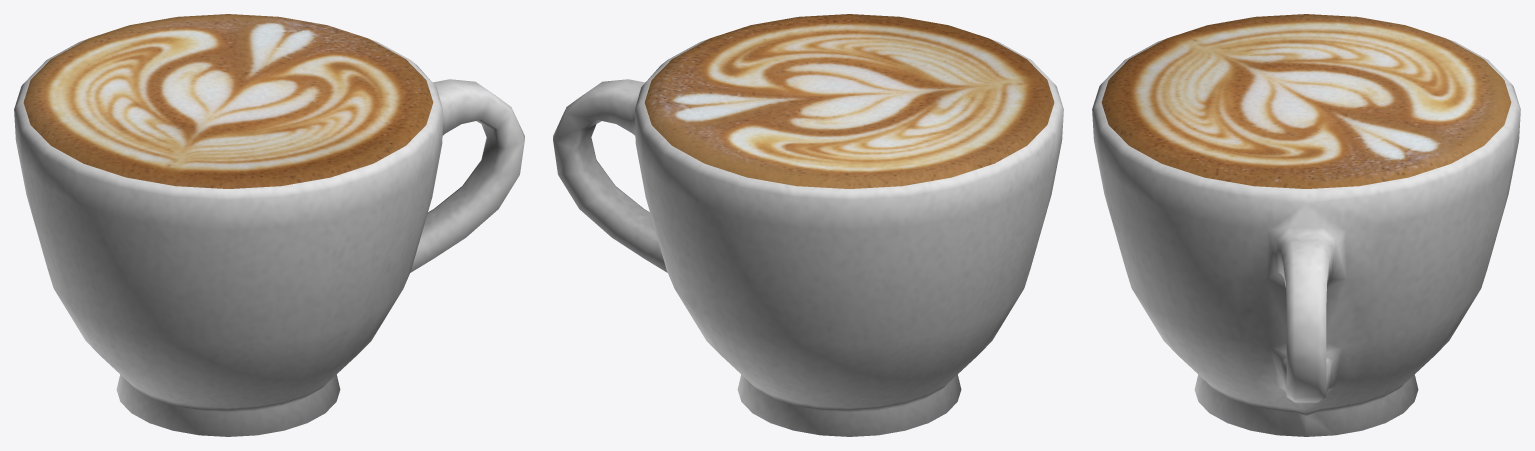
The model's file is caffe_latte_cup.glb.
The picture shows the model from 3 angles, left to right: view 1: azimuth 30°, elevation 25°; view 2: azimuth 150°, elevation 25°; view 3: azimuth 270°, elevation 25°; orthographic projection.
Visible parts, largest first — view 1: Coffee Cup; view 2: Coffee Cup; view 3: Coffee Cup.
Part boxes in pixels (x1,y1,x2,y2): Coffee Cup: (14, 14, 524, 436); Coffee Cup: (553, 14, 1063, 436); Coffee Cup: (1092, 14, 1520, 436).
Bounding box in the file's own units: 8.5 × 5.05 × 6.63.
Materials: 1 (1 with a texture image).
